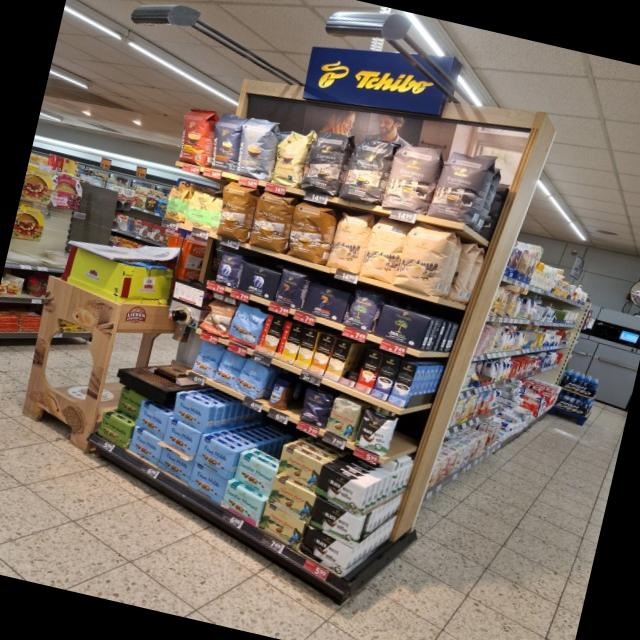AB Bohne: (211, 249, 243, 290)
AB Gemahlen: (236, 260, 282, 303)
Athiopien Bohne: (160, 183, 190, 223)
Athiopien Gemahlen: (182, 188, 213, 230)
BM Bohne: (340, 285, 386, 336)
BM Gemahlen: (372, 302, 432, 351)
BW Bohne: (351, 408, 398, 458)
BW Gemahlen: (309, 494, 364, 550), (298, 524, 352, 579), (315, 462, 366, 519)
Barista CB: (270, 124, 312, 188)
Barista CC: (231, 116, 280, 183)
Barista Espresso: (206, 111, 248, 173)
Barista Kolumbien: (173, 106, 218, 168)
C Fino Bohne: (295, 385, 333, 431)
CC Mild: (394, 220, 456, 298), (360, 213, 408, 284), (326, 206, 373, 275)
CC Vollmundig: (197, 297, 237, 338)
CC Vollmundig 36 Pads: (283, 197, 336, 264), (247, 190, 295, 253), (214, 182, 258, 242)
Colombia BB Bohne: (322, 394, 364, 444)
Colombia BB Gemahlen: (257, 499, 306, 552), (266, 474, 315, 525), (279, 443, 323, 493)
Espresso Aromatisch: (429, 147, 496, 228), (382, 138, 443, 216)
Espresso Kraftig: (339, 128, 397, 206), (302, 127, 350, 195)
FM 36 Pads: (226, 302, 267, 350)
FM Bohne: (232, 357, 269, 400), (211, 349, 245, 390), (189, 339, 223, 379)
FM Gemahlen: (193, 433, 236, 480), (160, 416, 202, 460), (187, 461, 227, 506), (155, 444, 195, 486), (126, 426, 165, 467), (172, 392, 210, 433), (134, 400, 170, 440)
Herzhatfe Mundig: (96, 410, 132, 451)
LG Bohne: (273, 267, 307, 311)
LG Gemahlen: (301, 279, 351, 325)
SM Gemahlen: (231, 451, 278, 498), (219, 480, 264, 528)
Simo CCMild: (275, 320, 304, 364)
Simo CCMild bigpack: (295, 328, 318, 370)
Simo CCVollmundig: (256, 313, 285, 356)
Simo CCVollmundig bigpack: (309, 332, 335, 376)
Simo Decaff: (323, 338, 351, 381)
Simo Es Brazil: (354, 348, 383, 394)
Simo Es Kraft: (371, 354, 400, 400)
Simo Es Vanilla: (388, 360, 417, 408)
